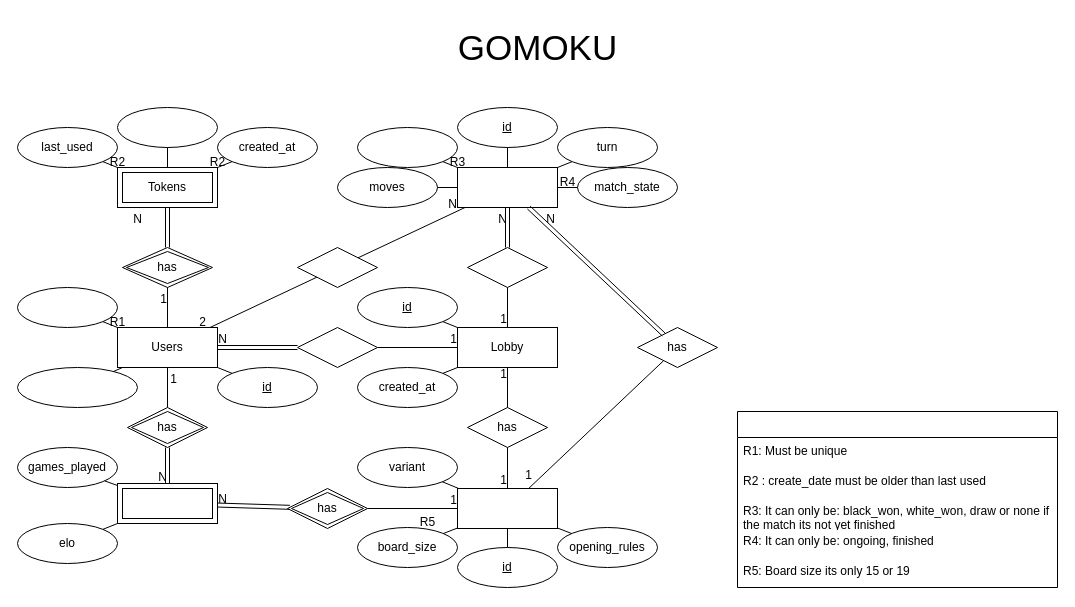
This 1075x607 diagram has some shape labels left out. Each missing label, with the box of its shape:
belongs: (296, 326, 378, 368)
creates: (466, 246, 548, 288)
match_outcome: (356, 126, 458, 168)
Matches: (456, 166, 558, 208)
password_validation: (16, 366, 138, 408)
plays: (296, 246, 378, 288)
Restrictions: (736, 410, 1058, 588)
Rules: (456, 488, 558, 528)
token_validation: (116, 106, 218, 148)
User Stats: (116, 482, 218, 524)
username: (16, 286, 118, 328)
